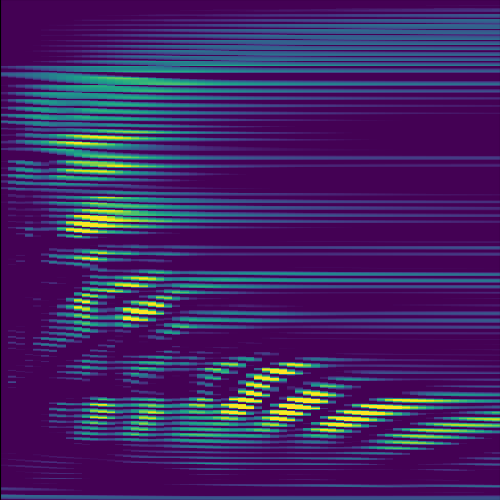semblance: (316, 386, 454, 436), (73, 270, 173, 332), (221, 360, 312, 420), (385, 407, 500, 450), (63, 192, 152, 239), (260, 383, 333, 435), (51, 128, 140, 150), (57, 156, 146, 176), (73, 246, 116, 266), (203, 359, 245, 376)
